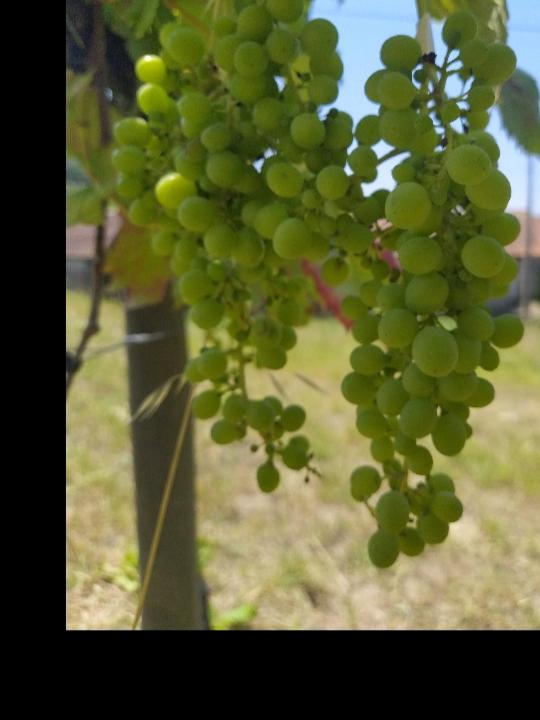grape: (109, 0, 352, 491), (340, 8, 525, 575)
